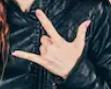back: (11, 5, 93, 76)
